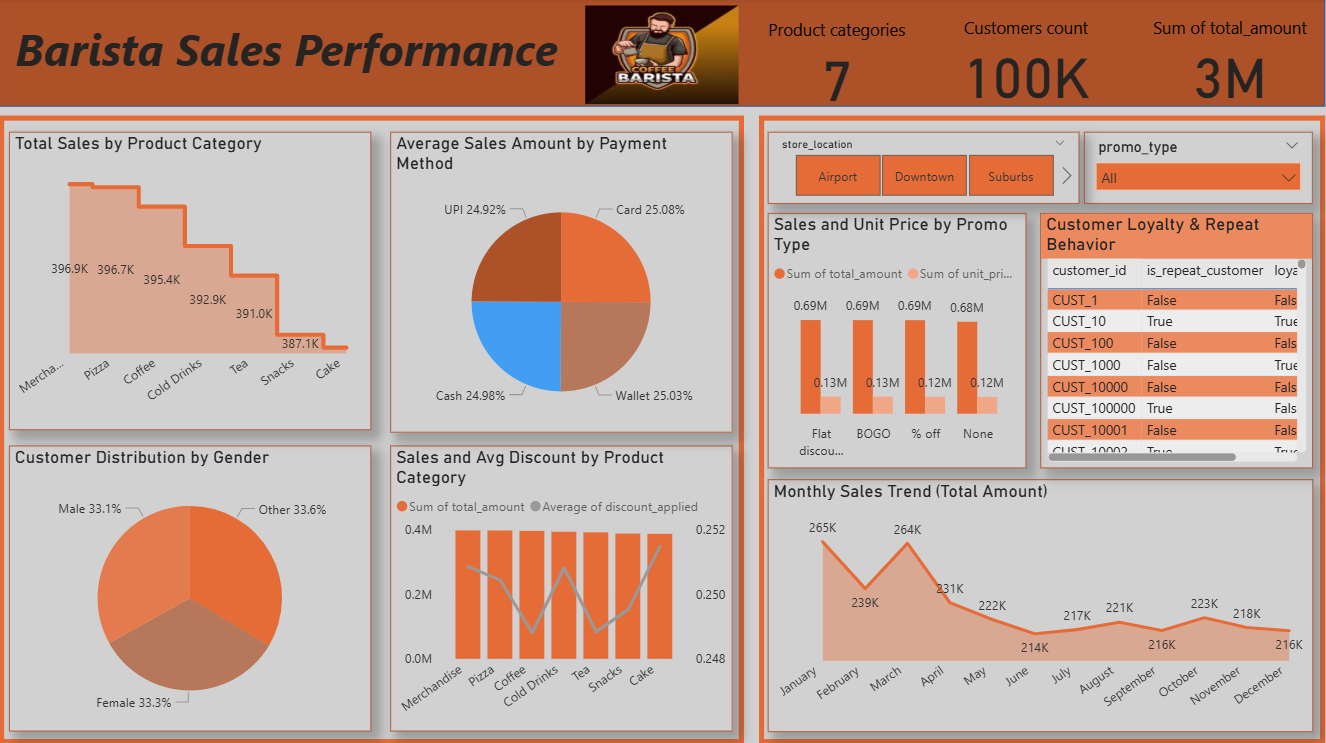

This screenshot's page, from the dashboard's own definition file:
{"tool":"powerbi","page":{"name":"Page 1","canvas":[1280,720],"ordinal":0},"visuals":[{"type":"group","id":"g1","title":"Group 1","box":[0,113.4,719,606.8],"z":0},{"type":"shape","box":[733.5,113.4,546.5,606.8],"z":0,"group":"g4"},{"type":"group","id":"g2","title":"Group 3","box":[0,0,1280,720.2],"z":1000},{"type":"shape","box":[0,113.4,719,606.8],"z":1000,"group":"g1"},{"type":"group","id":"g3","title":"Group 4","box":[0,0,1280,107.4],"z":1001,"group":"g2"},{"type":"shape","box":[0,0,1280,105],"z":2000,"group":"g3"},{"type":"textbox","box":[0,14.5,555,82],"z":3000,"group":"g3"},{"type":"image","box":[561,2.4,158,105],"z":4000,"group":"g3"},{"type":"cardVisual","fields":{"Data":["Count(Barishta coffee.product_category)"]},"box":[725.1,2.4,167.7,105],"z":5000,"group":"g3"},{"type":"cardVisual","fields":{"Data":["Barishta .Customers count"]},"box":[904.8,0,173.7,105],"z":6000,"group":"g3"},{"type":"cardVisual","fields":{"Data":["Sum(Barishta coffee.total_amount)"]},"box":[1096.7,0,183.4,105],"z":7000,"group":"g3"},{"type":"stackedAreaChart","title":"Total Sales by Product Category","fields":{"Category":["Barishta coffee.product_category"],"Y":["Sum(Barishta coffee.total_amount)"]},"box":[9.7,129.1,349.9,288.3],"z":8000,"group":"g1"},{"type":"lineStackedColumnComboChart","title":"\tSales and Avg Discount by Product Category","fields":{"Y":["Sum(Barishta coffee.total_amount)"],"Category":["Barishta coffee.product_category"],"Y2":["Avg(Barishta coffee.discount_applied)"]},"box":[377.6,431.9,330.6,276.3],"z":9000,"group":"g1"},{"type":"pieChart","title":"Customer Distribution by Gender","fields":{"Category":["Barishta coffee.customer_gender"],"Y":["CountNonNull(Barishta coffee.customer_id)"]},"box":[9.7,431.9,349.9,276.3],"z":10000,"group":"g1"},{"type":"pieChart","title":"\tAverage Sales Amount by Payment Method","fields":{"Category":["Barishta coffee.payment_method"],"Y":["Avg(Barishta coffee.total_amount)"]},"box":[377.6,129.1,330.6,290.8],"z":11000,"group":"g1"},{"type":"lineChart","title":"Monthly Sales Trend (Total Amount)","fields":{"Y":["Sum(Barishta coffee.total_amount)"],"Category":["Barishta coffee.order_date.Variation.Date Hierarchy.Month"]},"box":[741.9,464.5,526,243.7],"z":12000,"group":"g4"},{"type":"slicer","fields":{"Values":["Barishta coffee.store_location"]},"box":[741.9,129.1,300.4,70],"z":13000,"group":"g4"},{"type":"slicer","fields":{"Values":["Barishta coffee.promo_type"]},"box":[1047.2,129.1,220.8,70],"z":14000,"group":"g4"},{"type":"clusteredColumnChart","title":"\tSales and Unit Price by Promo Type","fields":{"Y":["Sum(Barishta coffee.total_amount)","Sum(Barishta coffee.unit_price)"],"Category":["Barishta coffee.promo_type"]},"box":[741.9,207.5,249.7,246.1],"z":15000,"group":"g4"},{"type":"tableEx","title":"Customer Loyalty & Repeat Behavior","fields":{"Values":["Barishta coffee.customer_id","Barishta coffee.is_repeat_customer","Barishta coffee.loyalty_member"]},"box":[1004.9,207.5,263,246.1],"z":16000,"group":"g4"},{"type":"group","id":"g4","title":"Group 2","box":[733.5,113.4,546.5,606.8],"z":16002,"group":"g2"}]}

Visuals, with their boxes in screenshot pixels (x1, y1, x2, y2), scaled from the page's 1280x720 canvas onto the 1326x743 screenshot:
"Group 1" group: BBox(0, 117, 745, 742)
shape: BBox(760, 117, 1325, 742)
"Group 3" group: BBox(0, 0, 1325, 742)
shape: BBox(0, 117, 745, 742)
"Group 4" group: BBox(0, 0, 1325, 111)
shape: BBox(0, 0, 1325, 108)
textbox: BBox(0, 15, 575, 100)
image: BBox(581, 2, 745, 111)
cardVisual - Count(Barishta coffee.product_category): BBox(751, 2, 925, 111)
cardVisual - Barishta .Customers count: BBox(937, 0, 1117, 108)
cardVisual - Sum(Barishta coffee.total_amount): BBox(1136, 0, 1325, 108)
"Total Sales by Product Category" stackedAreaChart: BBox(10, 133, 373, 431)
"	Sales and Avg Discount by Product Category" lineStackedColumnComboChart: BBox(391, 446, 734, 731)
"Customer Distribution by Gender" pieChart: BBox(10, 446, 373, 731)
"	Average Sales Amount by Payment Method" pieChart: BBox(391, 133, 734, 433)
"Monthly Sales Trend (Total Amount)" lineChart: BBox(769, 479, 1313, 731)
slicer - Barishta coffee.store_location: BBox(769, 133, 1080, 205)
slicer - Barishta coffee.promo_type: BBox(1085, 133, 1314, 205)
"	Sales and Unit Price by Promo Type" clusteredColumnChart: BBox(769, 214, 1027, 468)
"Customer Loyalty & Repeat Behavior" tableEx: BBox(1041, 214, 1313, 468)
"Group 2" group: BBox(760, 117, 1325, 742)
